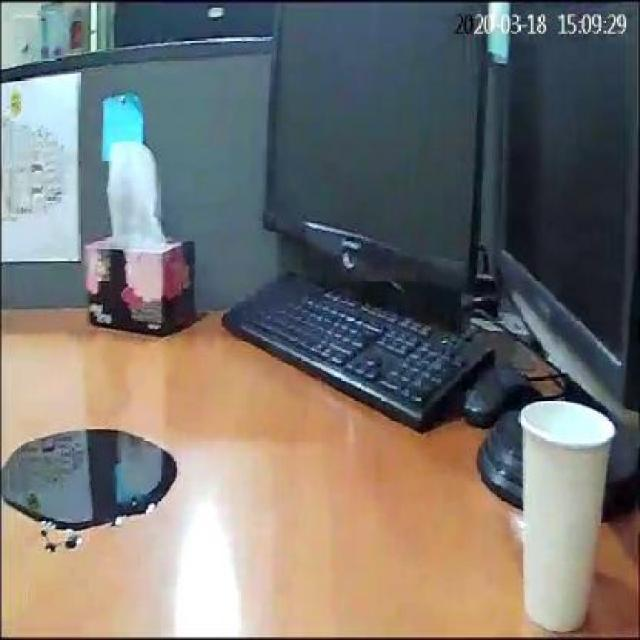spill: (1, 417, 178, 535)
